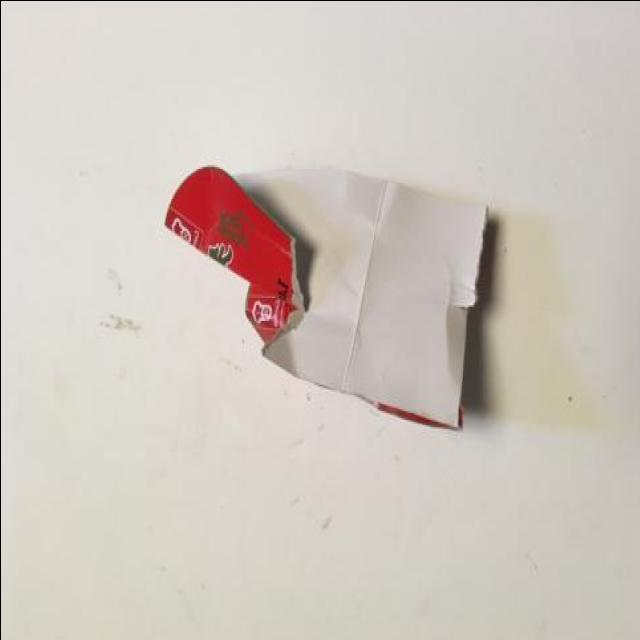kertas: (160, 165, 487, 432)
